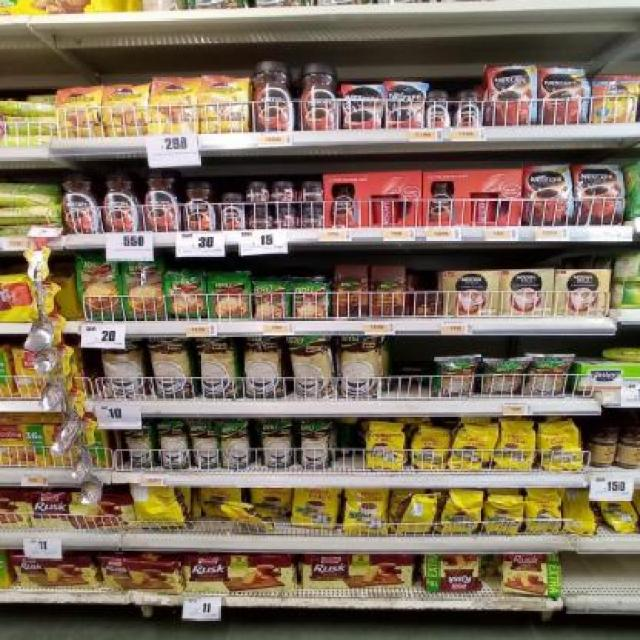Coffee: (252, 60, 296, 132), (574, 165, 624, 224), (299, 64, 343, 130), (523, 166, 572, 225), (487, 66, 536, 122), (538, 68, 588, 122), (200, 77, 249, 132), (152, 78, 196, 133), (102, 172, 141, 233), (61, 173, 101, 232), (56, 87, 102, 138), (104, 84, 148, 136), (143, 172, 180, 230), (592, 80, 636, 122), (342, 84, 383, 128), (386, 82, 425, 128), (184, 179, 216, 230), (217, 192, 246, 230), (454, 91, 483, 126), (426, 90, 452, 127), (273, 205, 298, 227), (250, 206, 272, 229), (248, 180, 270, 202), (301, 205, 322, 227), (300, 180, 323, 200), (273, 180, 296, 200)
